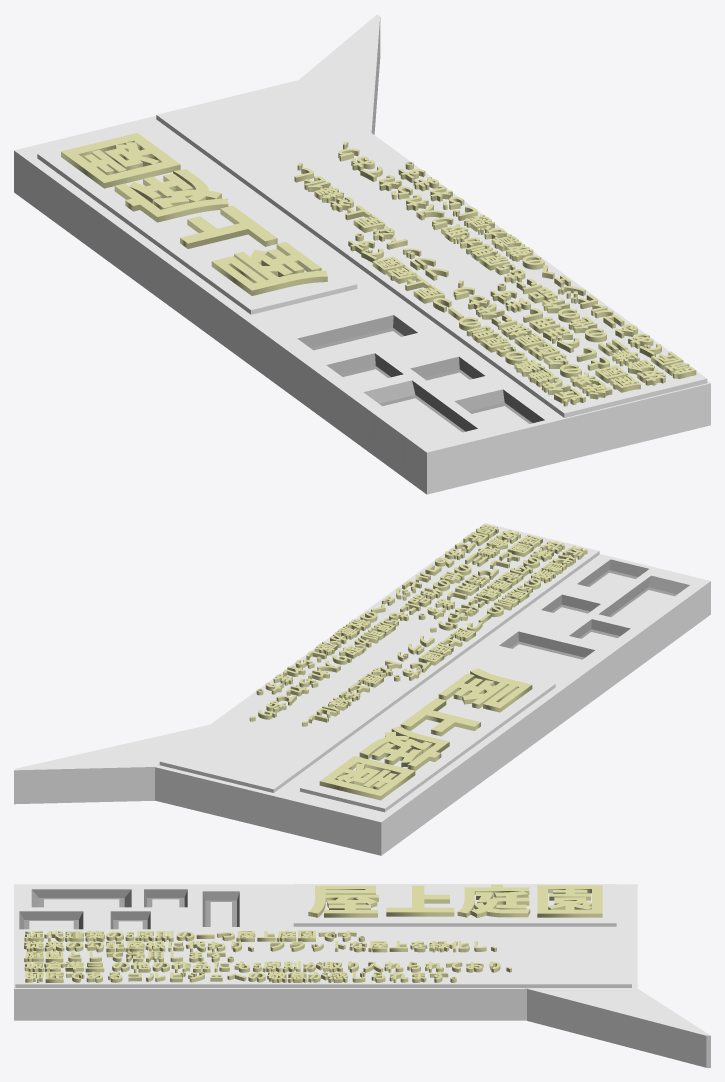
Rendered from fukidasi-okujouteien.glb.
3 views of the same model, one above another, from view 1: azimuth 30°, elevation 25°; view 2: azimuth 150°, elevation 25°; view 3: azimuth 270°, elevation 25° (orthographic). The views are drawn at different scales.
Parts seen in each view (by area): view 1: 立方体, 立方体.002, テキスト.001, テキスト, 立方体.003, 立方体.001; view 2: 立方体, 立方体.002, テキスト.001, テキスト, 立方体.001, 立方体.003; view 3: 立方体, 立方体.002, テキスト.001, 立方体.001, テキスト, 立方体.003.
Boxes of the visible parts, x1,y1,x2,y2 form: 立方体: [14, 116, 710, 494]; 立方体.002: [156, 80, 707, 417]; テキスト.001: [294, 141, 696, 406]; テキスト: [61, 133, 327, 295]; 立方体.003: [37, 128, 357, 314]; 立方体.001: [299, 14, 380, 134]; 立方体: [155, 554, 710, 855]; 立方体.002: [159, 523, 599, 792]; テキスト.001: [249, 524, 587, 726]; テキスト: [319, 668, 532, 800]; 立方体.001: [14, 724, 209, 804]; 立方体.003: [300, 663, 555, 812]; 立方体: [14, 884, 637, 1020]; 立方体.002: [15, 931, 631, 987]; テキスト.001: [24, 930, 511, 982]; 立方体.001: [525, 988, 710, 1067]; テキスト: [308, 884, 602, 917]; 立方体.003: [293, 884, 616, 926].
Bounding box in the file's own units: 6.4 × 0.7778 × 12.42.
